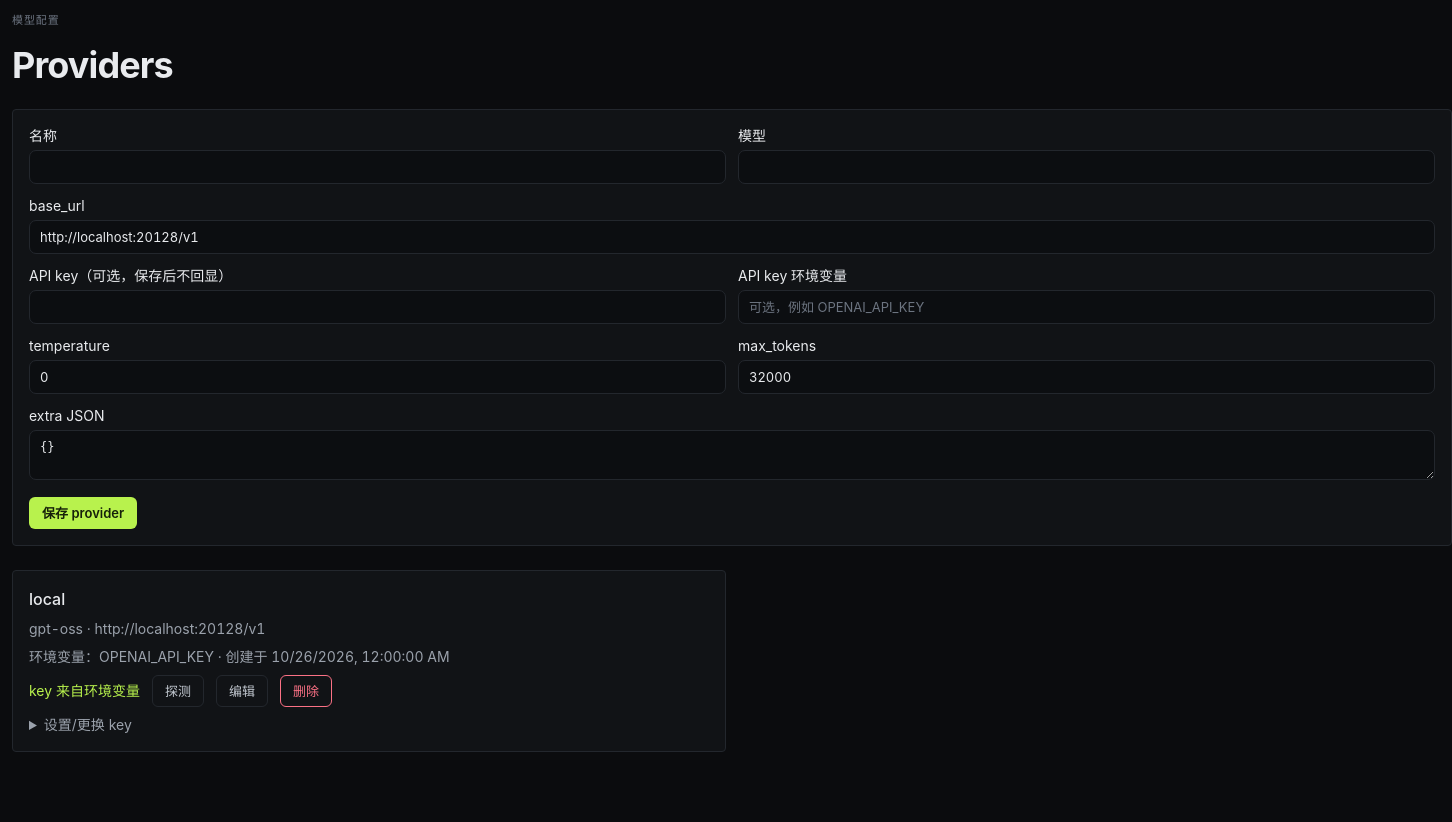
it: ProvidersView › shows a Chinese network error when the backend is unreachable
This screenshot has width=1452, height=822.
Click the button "探测".
click(178, 691)  # box 152,675 -> 204,707
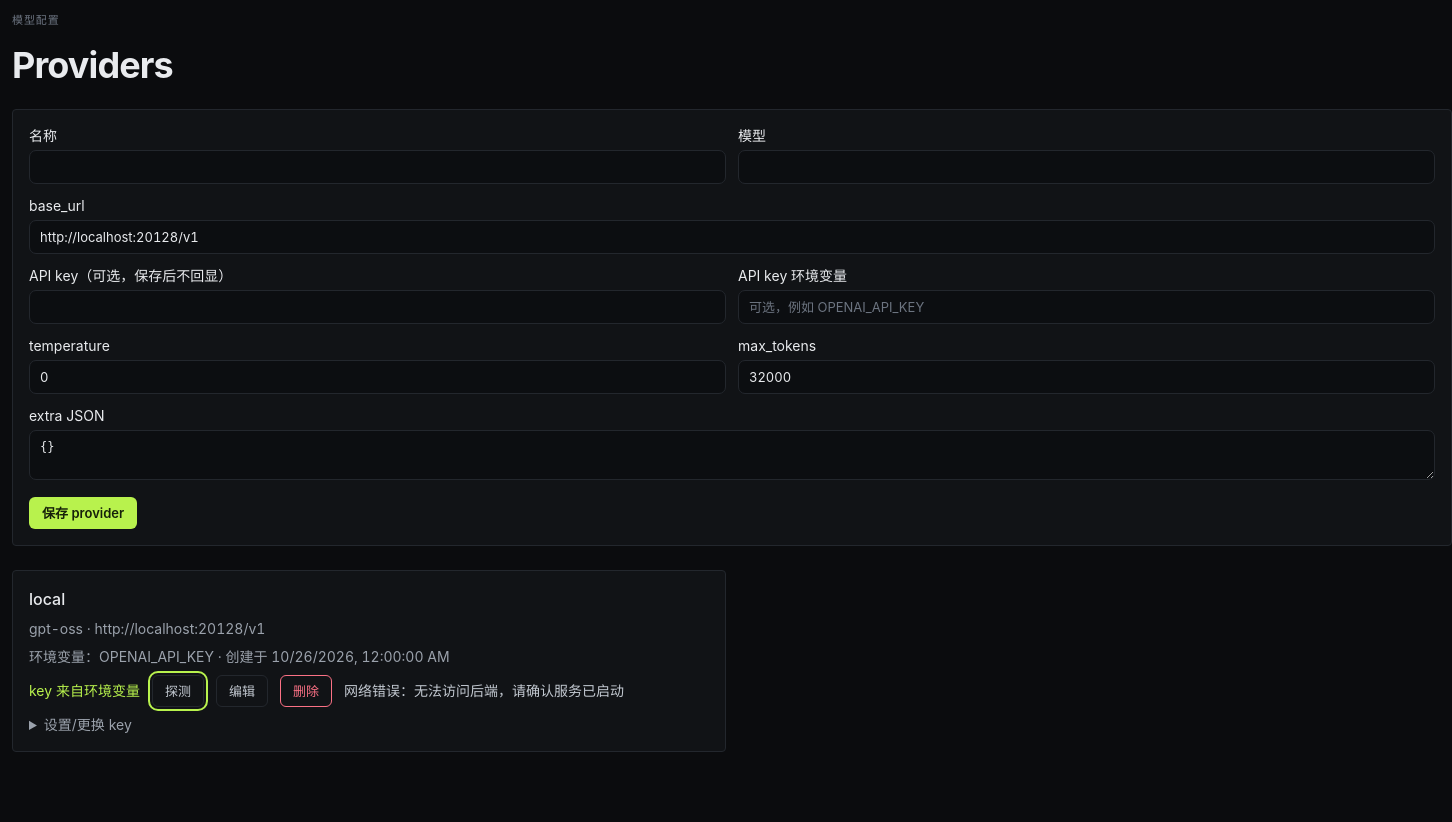
Expected: the text "网络错误：无法访问后端，请确认服务已启动" is shown, 344,681 -> 624,701
